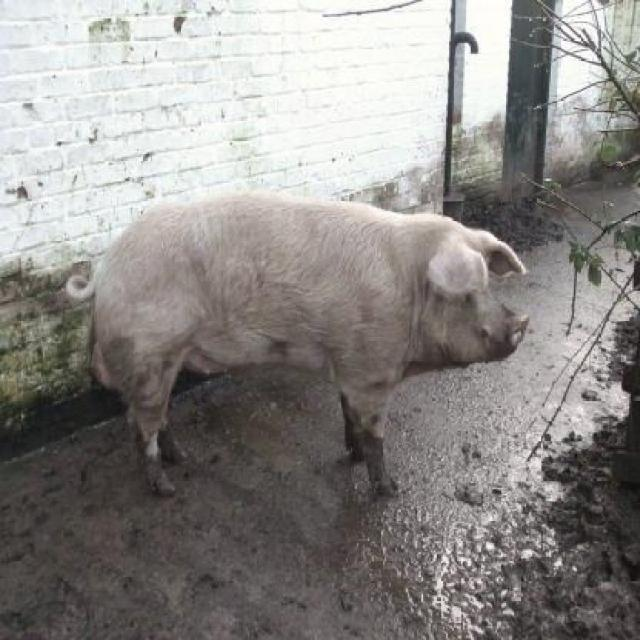Boar: (68, 189, 530, 500)
